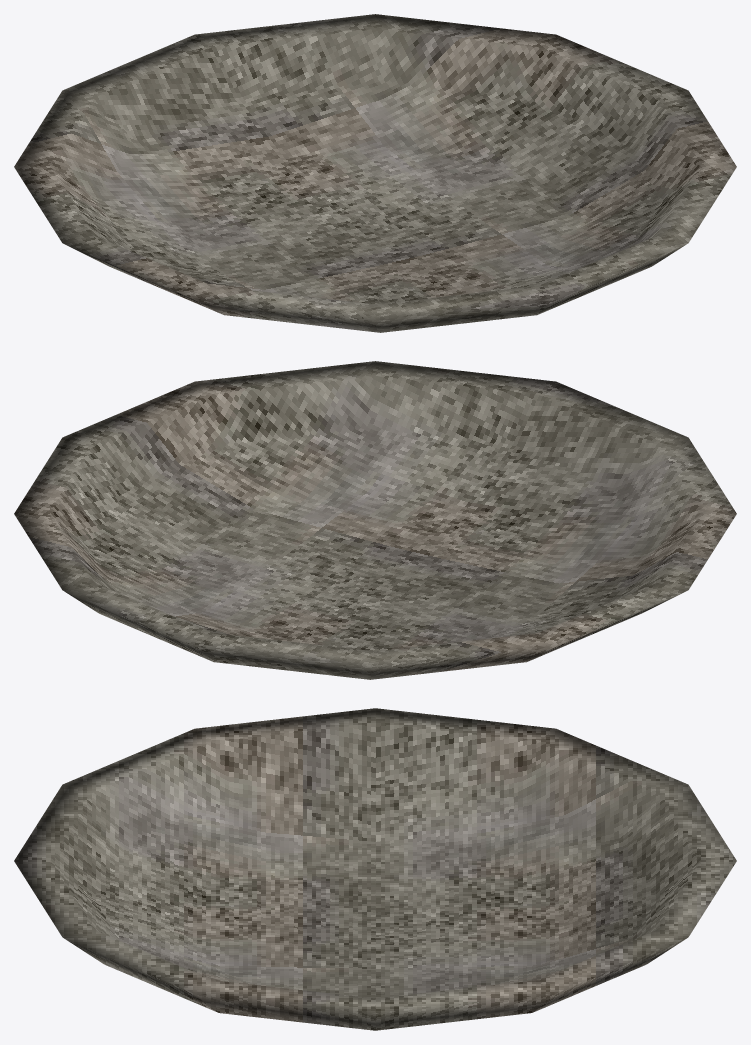
Rendered from bowl.glb.
The picture shows the model from 3 angles, top to bottom: view 1: azimuth 30°, elevation 25°; view 2: azimuth 150°, elevation 25°; view 3: azimuth 270°, elevation 25°; orthographic projection.
Parts seen in each view (by area): view 1: bowl.ms3d.mo; view 2: bowl.ms3d.mo; view 3: bowl.ms3d.mo.
Boxes of the visible parts, x1,y1,x2,y2 form: bowl.ms3d.mo: [14, 14, 736, 332]; bowl.ms3d.mo: [14, 361, 736, 679]; bowl.ms3d.mo: [14, 708, 736, 1030].
Bounding box in the file's own units: 19.14 × 2.46 × 19.14.
Materials: 1 (1 with a texture image).
